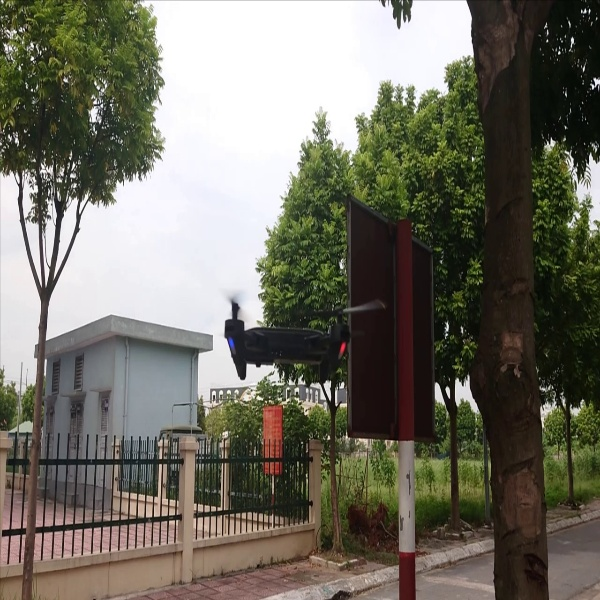drone: (206, 285, 384, 386)
